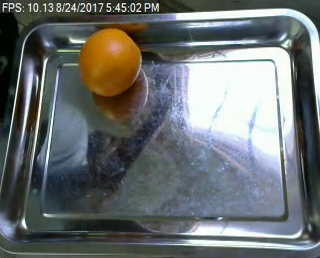Orange: (79, 27, 142, 94)
